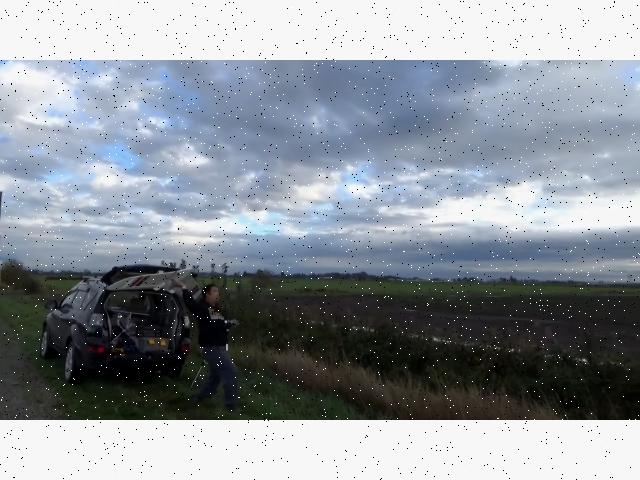Anti-Drone: (106, 266, 202, 302)
